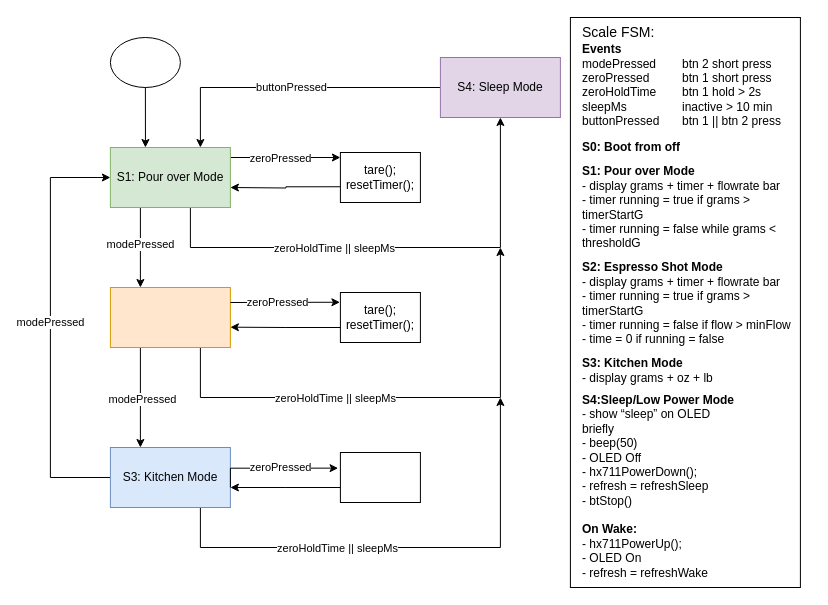
The diagram is 828 pixels wide and 605 high, and some of its shapes have lost their labels. Here are the shapes that lost their labels. From the top down, the centre of each, then its label:
(x=144, y=62): Boot
(x=169, y=317): S2: Shot Mode
(x=379, y=477): tare();
